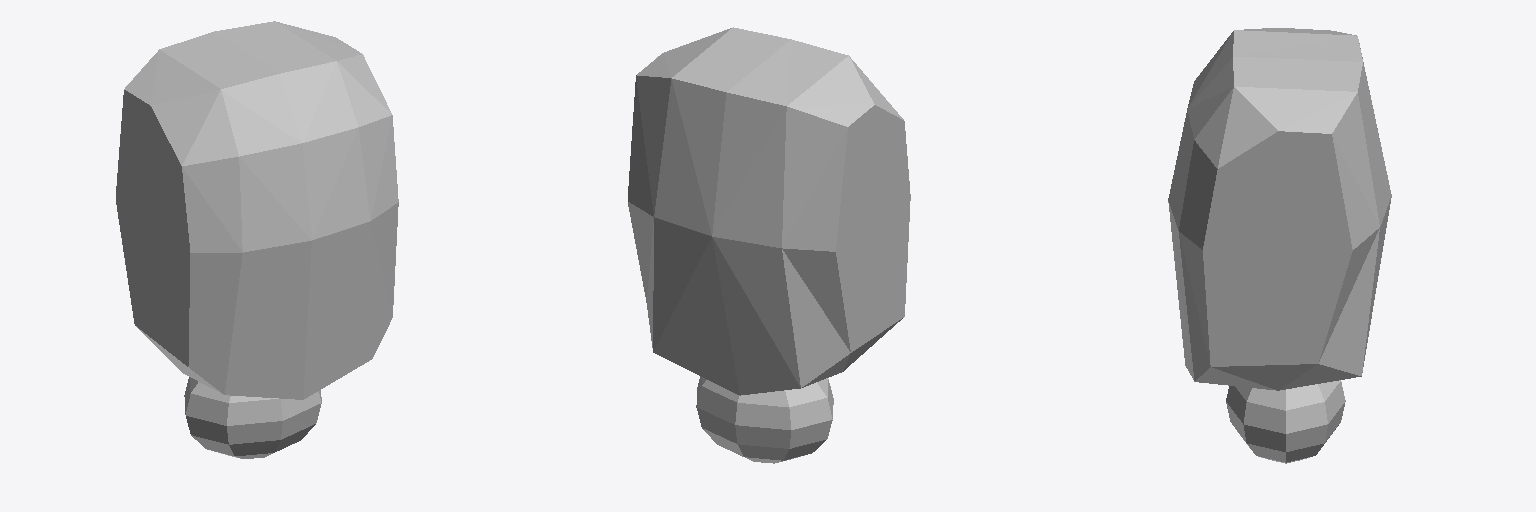
The model's file is chest.obj.
3 renders of one model, left to right at view 1: azimuth 30°, elevation 25°; view 2: azimuth 150°, elevation 25°; view 3: azimuth 270°, elevation 25°, orthographic.
Visible parts, largest first — view 1: Chest.001_Cube.007; view 2: Chest.001_Cube.007; view 3: Chest.001_Cube.007.
Boxes of the visible parts, box(x1,y1,x2,y2) form: Chest.001_Cube.007: box(116, 21, 398, 458); Chest.001_Cube.007: box(628, 27, 910, 463); Chest.001_Cube.007: box(1168, 28, 1391, 463).
Size of the model in its own units: 0.5092 by 0.9149 by 0.4648.